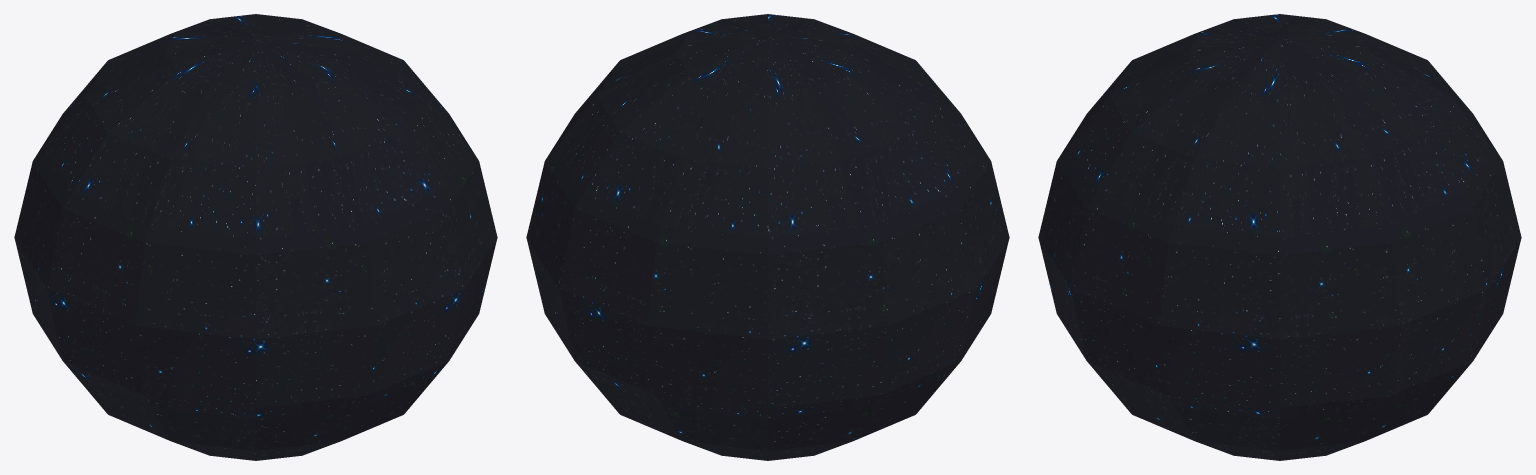
Rendered from map_tkgcz.glb.
3 renders of one model, left to right at view 1: azimuth 30°, elevation 25°; view 2: azimuth 150°, elevation 25°; view 3: azimuth 270°, elevation 25°, orthographic.
Visible parts, largest first — view 1: sky_tkgcz; view 2: sky_tkgcz; view 3: sky_tkgcz.
Part boxes in pixels (box(x1,y1,x2,y2)): sky_tkgcz: box(14, 14, 497, 460); sky_tkgcz: box(526, 14, 1009, 460); sky_tkgcz: box(1038, 14, 1521, 460).
Size of what is drawn, in the model's own units: 26.22 by 23.91 by 26.22.
Materials: 19 (19 with a texture image).
